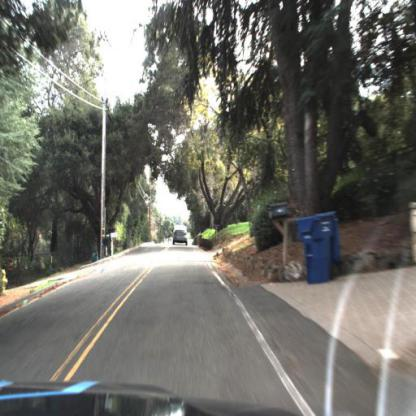car: (171, 223, 192, 253)
